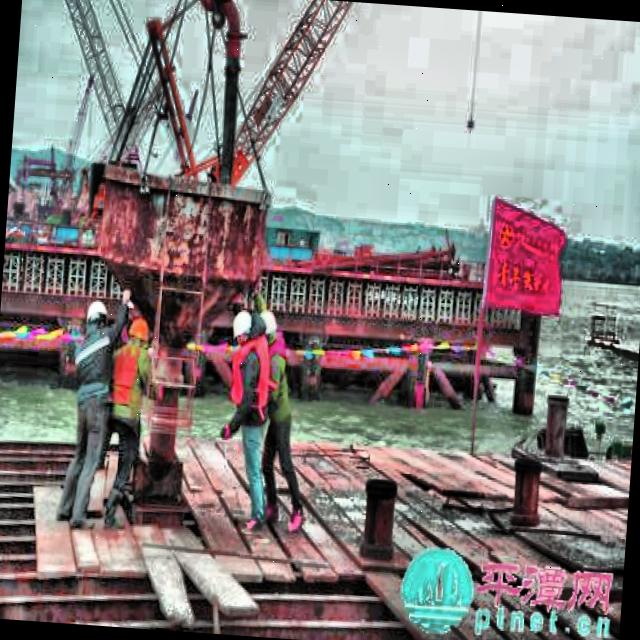helmet: (82, 295, 110, 339), (230, 305, 257, 349), (125, 312, 148, 356), (255, 307, 278, 351)
